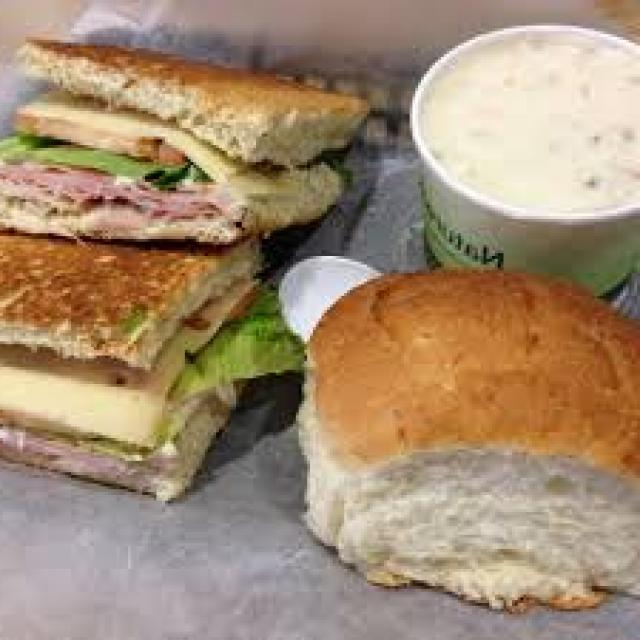Sandwich: (3, 45, 378, 498)
